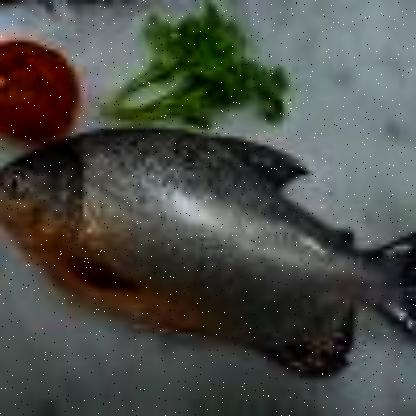ikan-pacu: (0, 128, 408, 357)
